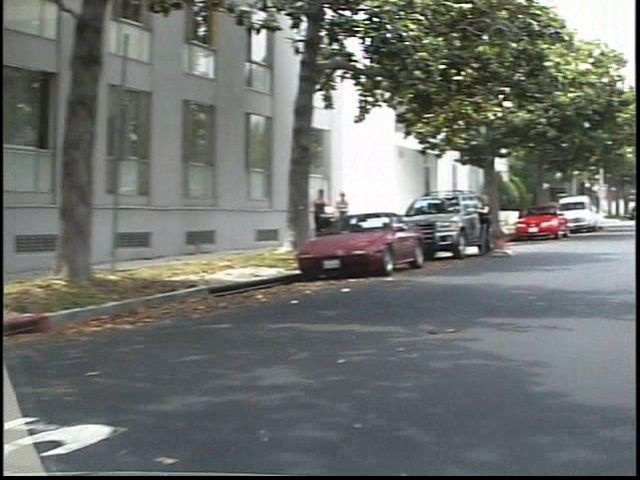person: (492, 192, 521, 263), (325, 183, 351, 250), (347, 188, 369, 246)
